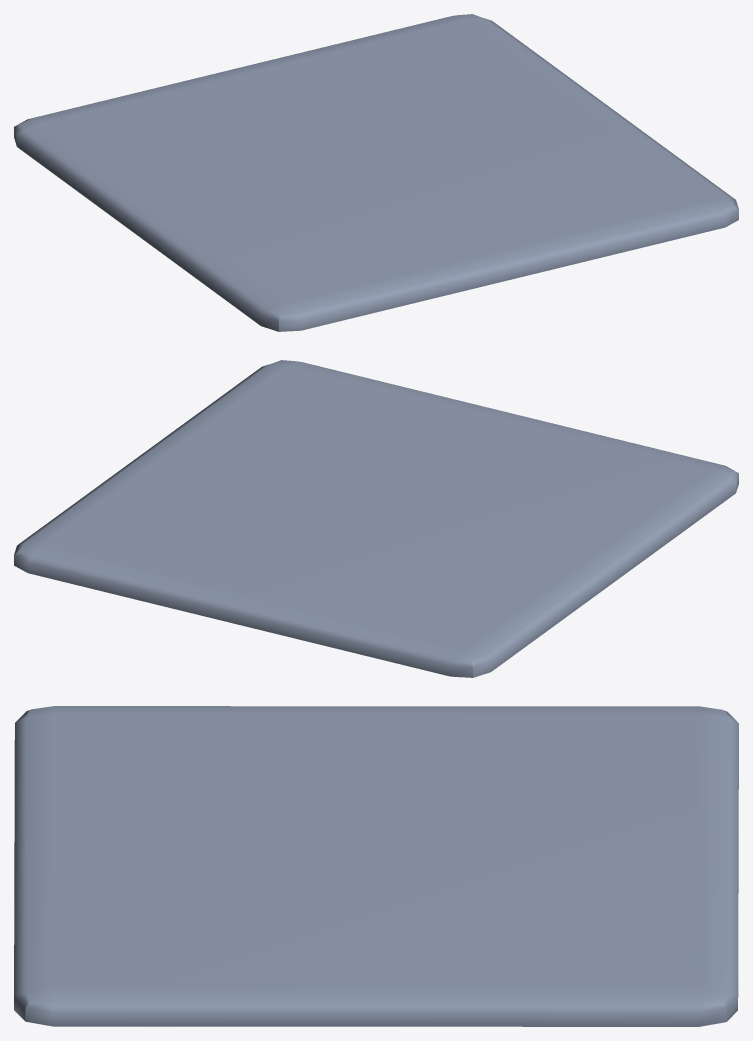
The model's file is SM_Floor.fbx.
The picture shows the model from 3 angles, top to bottom: view 1: azimuth 30°, elevation 25°; view 2: azimuth 150°, elevation 25°; view 3: azimuth 270°, elevation 25°; orthographic projection. The views are drawn at different scales.
Parts seen in each view (by area): view 1: SM_Floor; view 2: SM_Floor; view 3: SM_Floor.
Boxes of the visible parts, x1,y1,x2,y2 form: SM_Floor: (14, 14, 738, 331); SM_Floor: (14, 360, 738, 677); SM_Floor: (14, 706, 738, 1026).
Bounding box in the file's own units: 268 × 9.39 × 268.
